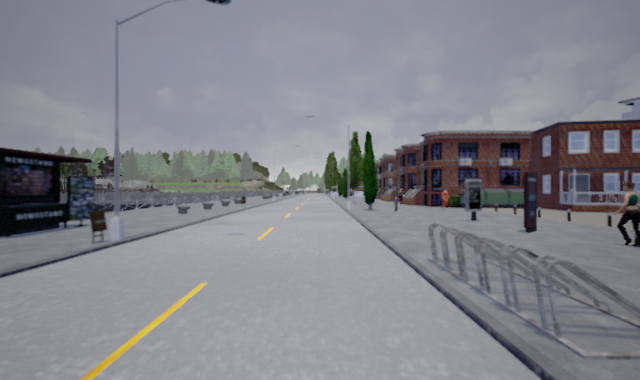pedestrian: (610, 179, 639, 248), (438, 186, 451, 209)
